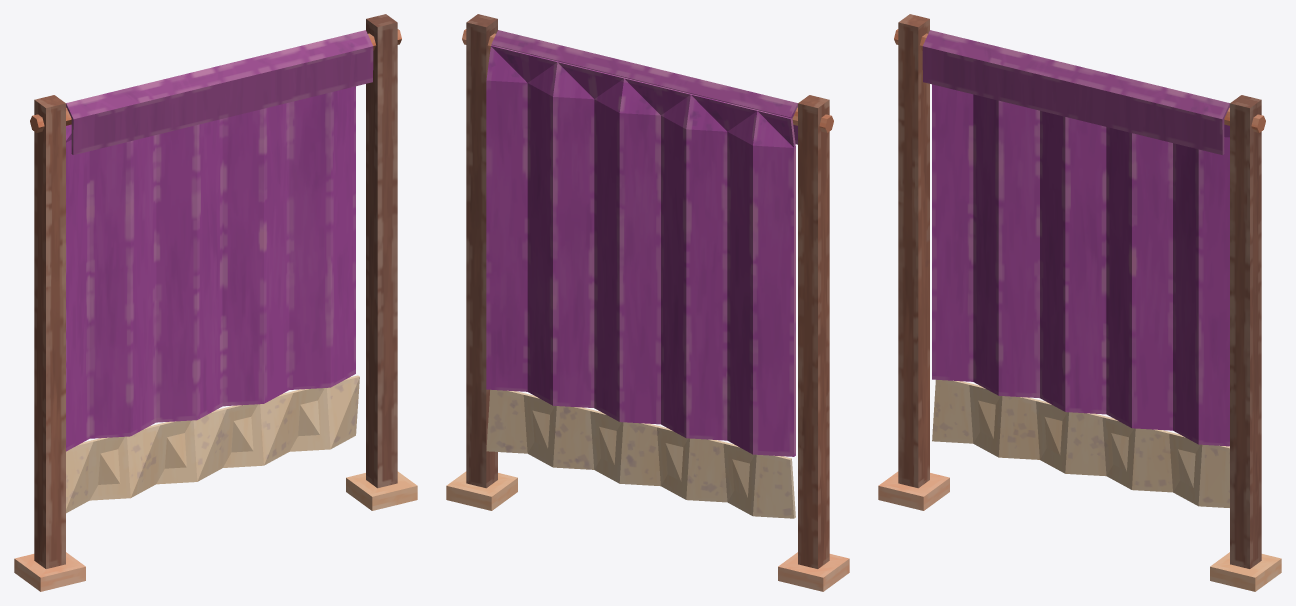
File: rack_plum_low.fbx
3 views of the same model, side by side, from view 1: azimuth 30°, elevation 25°; view 2: azimuth 150°, elevation 25°; view 3: azimuth 330°, elevation 25° (orthographic).
Visible parts, largest first — view 1: rack_plum; view 2: rack_plum; view 3: rack_plum.
Part boxes in pixels (<box>): rack_plum: <box>14,14,417,591</box>; rack_plum: <box>446,14,849,591</box>; rack_plum: <box>878,14,1281,591</box>.
Bounding box in the file's own units: 8.3 × 10 × 1.
1 material, 1 textured.
